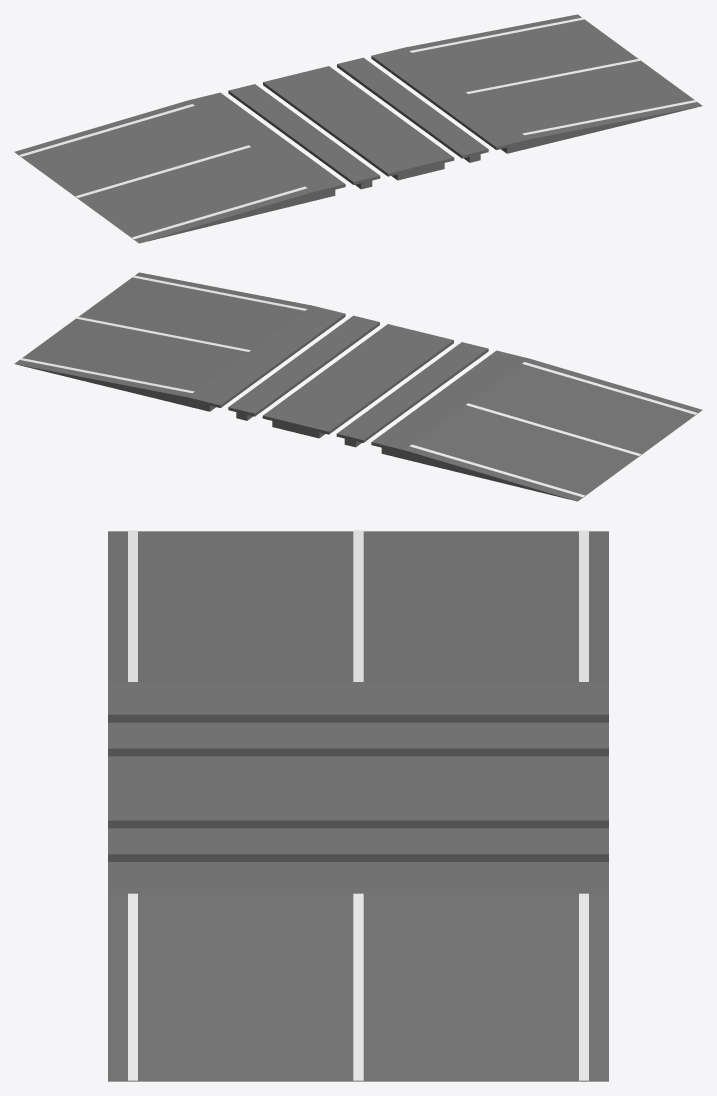
File: SM_Relocation_01.fbx
3 views of the same model, one above another, from view 1: azimuth 30°, elevation 25°; view 2: azimuth 150°, elevation 25°; view 3: azimuth 270°, elevation 25° (orthographic). The views are drawn at different scales.
Parts seen in each view (by area): view 1: SM_Relocation_01; view 2: SM_Relocation_01; view 3: SM_Relocation_01.
Part boxes in pixels (<box>): SM_Relocation_01: <box>14,14,702,243</box>; SM_Relocation_01: <box>14,272,702,501</box>; SM_Relocation_01: <box>108,530,608,1081</box>.
Bounding box in the file's own units: 2600 × 41.1 × 1000.
2 materials, 2 textured.
